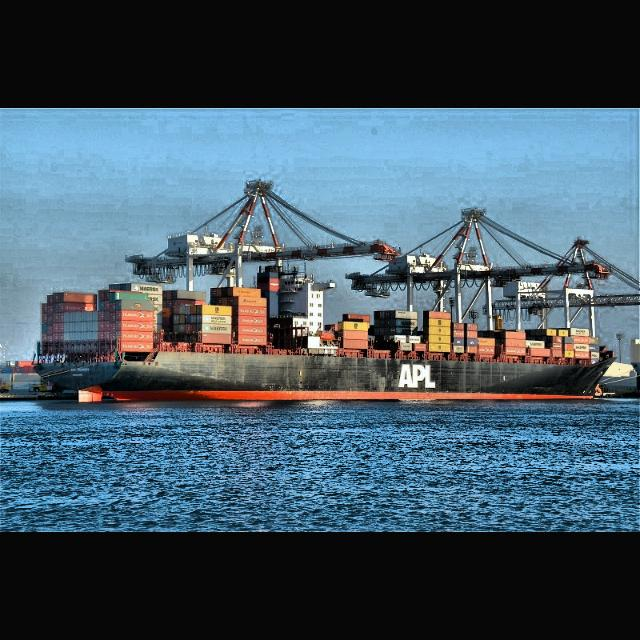container: (32, 264, 618, 406)
